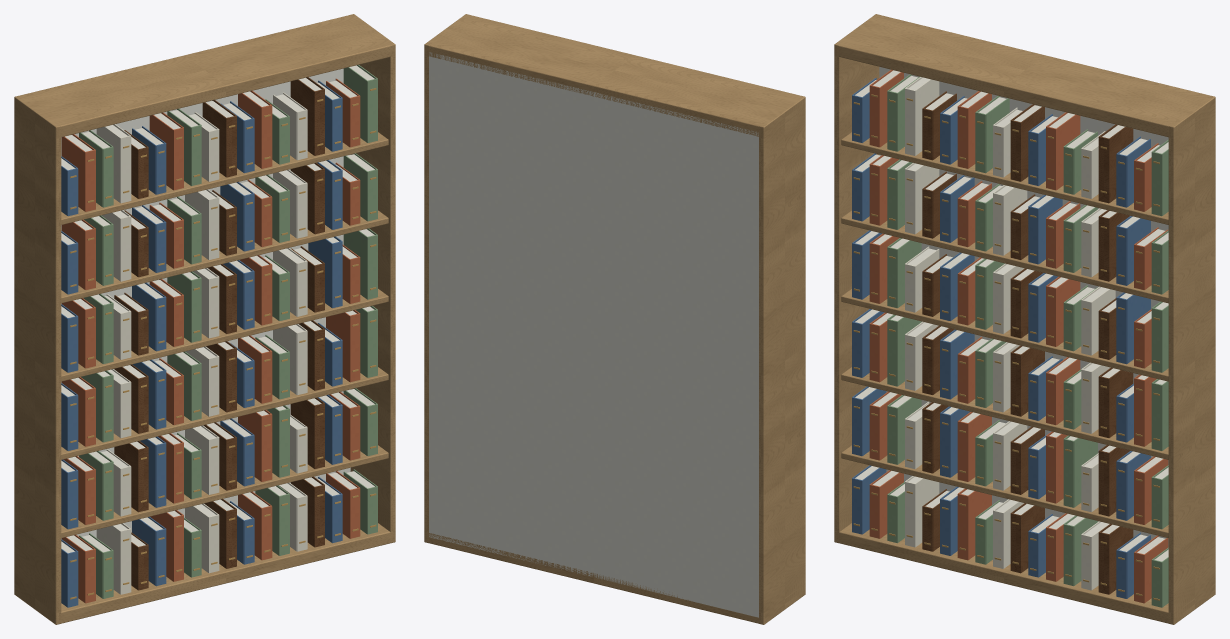
The model's file is filled-bookshelf-large-original-interior-furnishing.glb.
3 renders of one model, left to right at view 1: azimuth 30°, elevation 25°; view 2: azimuth 150°, elevation 25°; view 3: azimuth 330°, elevation 25°, orthographic.
Parts seen in each view (by area): view 1: Cabinet side, Cabinet top bottom.001, Cabinet side.001, Cabinet top bottom, Cabinet back, Bookshelf horizontal shelf, Bookshelf horizontal shelf.001, Bookshelf horizontal shelf.002, Bookshelf horizontal shelf.003, Bookshelf horizontal shelf.004, Book cover.208, Book cover.182 (+141 smaller); view 2: Cabinet back, Cabinet side, Cabinet top bottom.001, Cabinet top bottom, Cabinet side.001; view 3: Cabinet side.001, Cabinet top bottom.001, Cabinet side, Cabinet top bottom, Cabinet back, Bookshelf horizontal shelf, Bookshelf horizontal shelf.001, Bookshelf horizontal shelf.002, Bookshelf horizontal shelf.003, Bookshelf horizontal shelf.004, Book cover.187, Book cover.203 (+140 smaller).
Part boxes in pixels (left/top/right/bottom): Cabinet side: left=14, top=95, right=61, bottom=624; Cabinet top bottom.001: left=14, top=14, right=394, bottom=137; Cabinet side.001: left=349, top=14, right=395, bottom=543; Cabinet top bottom: left=61, top=523, right=394, bottom=623; Cabinet back: left=61, top=68, right=350, bottom=538; Bookshelf horizontal shelf: left=61, top=445, right=388, bottom=538; Bookshelf horizontal shelf.001: left=61, top=367, right=388, bottom=459; Bookshelf horizontal shelf.002: left=61, top=289, right=388, bottom=381; Bookshelf horizontal shelf.003: left=61, top=210, right=388, bottom=303; Bookshelf horizontal shelf.004: left=61, top=132, right=388, bottom=224; Book cover.208: left=290, top=79, right=314, bottom=155; Book cover.182: left=61, top=136, right=85, bottom=211; Cabinet back: left=429, top=52, right=758, bottom=617; Cabinet side: left=759, top=95, right=805, bottom=624; Cabinet top bottom.001: left=425, top=14, right=805, bottom=137; Cabinet top bottom: left=425, top=532, right=805, bottom=623; Cabinet side.001: left=424, top=14, right=470, bottom=543; Cabinet side.001: left=1168, top=95, right=1215, bottom=624; Cabinet top bottom.001: left=835, top=14, right=1215, bottom=137; Cabinet side: left=834, top=14, right=880, bottom=543; Cabinet top bottom: left=835, top=523, right=1215, bottom=623; Cabinet back: left=879, top=67, right=1168, bottom=546; Bookshelf horizontal shelf: left=841, top=445, right=1168, bottom=538; Bookshelf horizontal shelf.001: left=841, top=367, right=1168, bottom=459; Bookshelf horizontal shelf.002: left=841, top=289, right=1168, bottom=381; Bookshelf horizontal shelf.003: left=841, top=210, right=1168, bottom=303; Bookshelf horizontal shelf.004: left=841, top=132, right=1168, bottom=224; Book cover.187: left=915, top=79, right=939, bottom=155; Book cover.203: left=1056, top=114, right=1080, bottom=189.
Size of the model in its own units: 1.5 by 2.1 by 0.32.
Materials: 9 (9 with a texture image).
